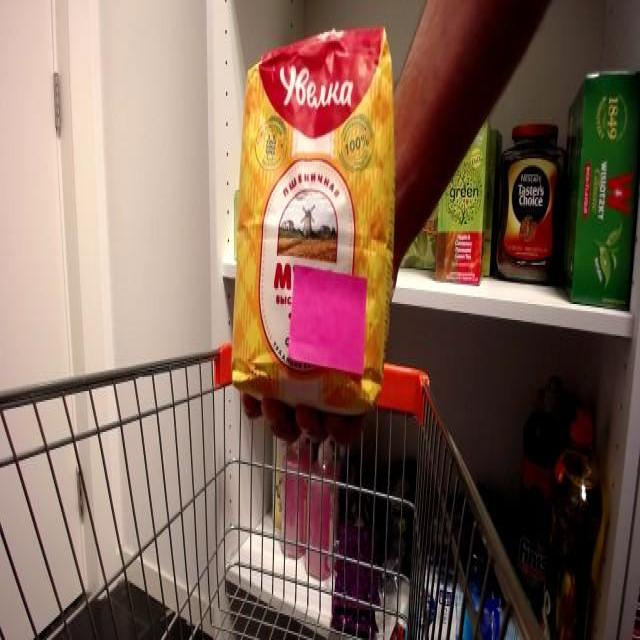Almond Milk: (229, 21, 409, 423)
